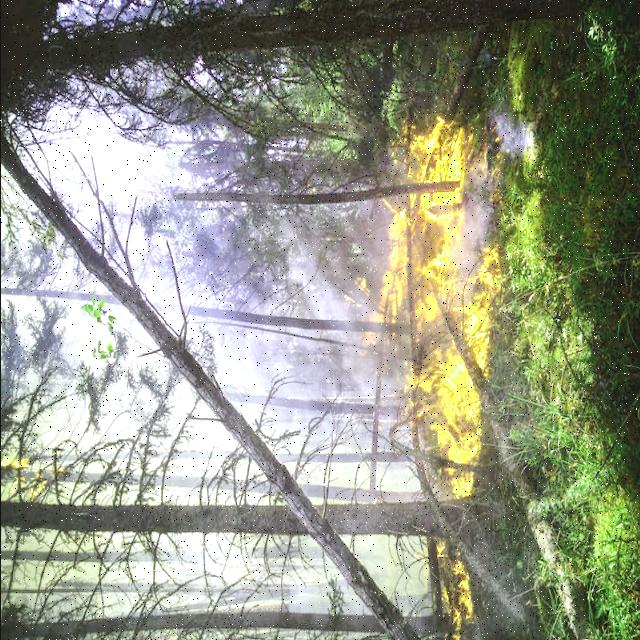api: (377, 136, 493, 510), (432, 549, 479, 628)
